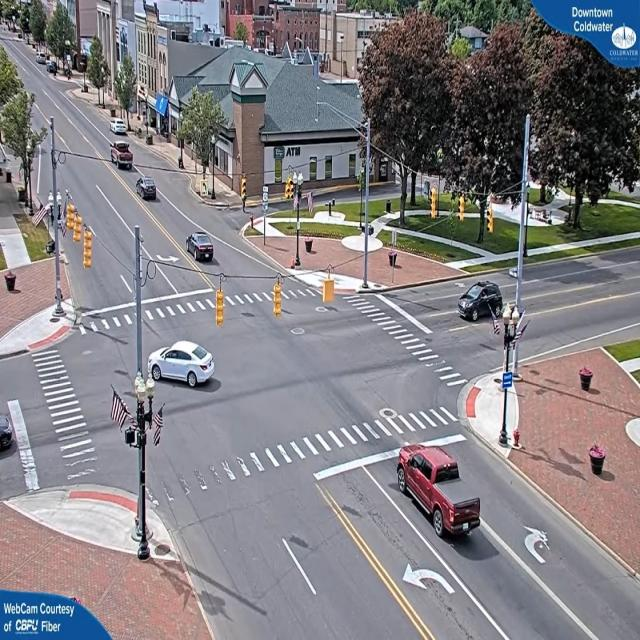car: (396, 445, 484, 542), (152, 342, 218, 388), (460, 281, 506, 325), (186, 233, 216, 264), (111, 145, 134, 169), (138, 180, 159, 202), (112, 121, 128, 136)
